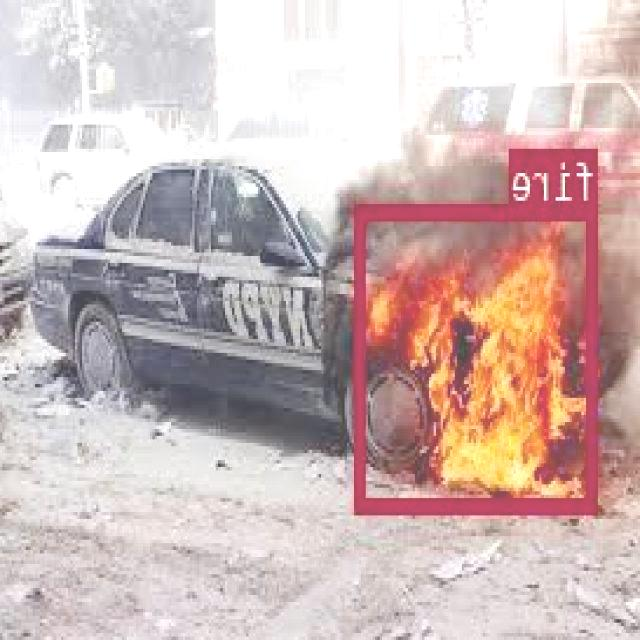fire: (357, 202, 599, 510)
